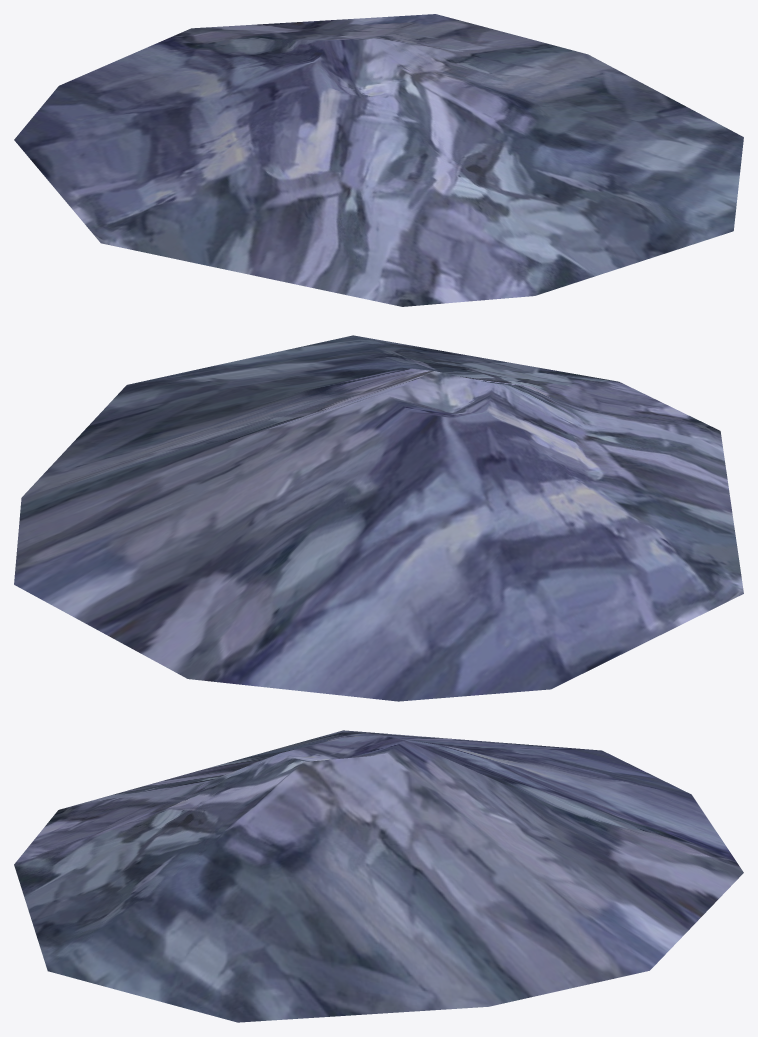
Rendered from pir_m_prp_vol_steamVent_large.fbx.
3 renders of one model, top to bottom at view 1: azimuth 30°, elevation 25°; view 2: azimuth 150°, elevation 25°; view 3: azimuth 270°, elevation 25°, orthographic. The views are drawn at different scales.
Parts seen in each view (by area): view 1: volcano_peak22; view 2: volcano_peak22; view 3: volcano_peak22.
Part boxes in pixels (x1,y1,x2,y2): volcano_peak22: (14, 14, 743, 306); volcano_peak22: (14, 335, 743, 701); volcano_peak22: (14, 730, 743, 1022).
Size of the model in its own units: 13094 by 2497 by 13821.
1 material, 1 textured.
